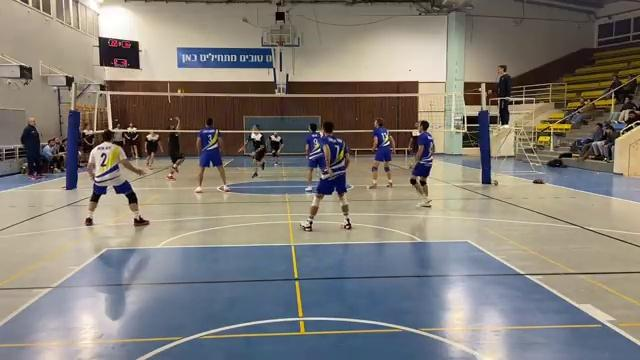ball: (175, 89, 185, 99)
